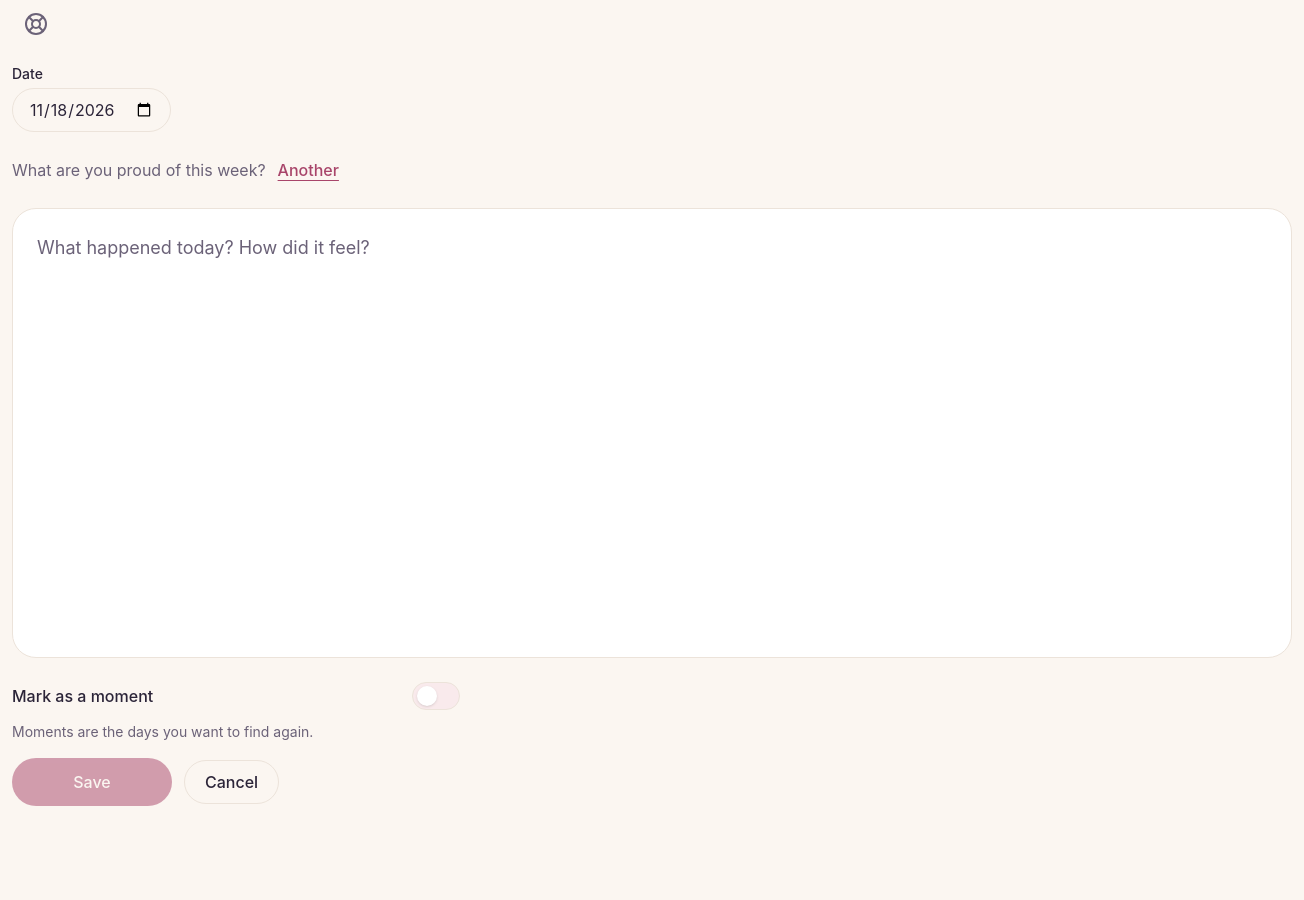
the editor's mood prompt › Plus, no check-in today: Another steps through the daily list, as Free
Expected: the text with test id "entry-prompt-text" reads "What are you proud of this week?", [12, 160, 266, 180]
Click the button with test id "entry-prompt-another" at (308, 170), box [278, 148, 339, 192]
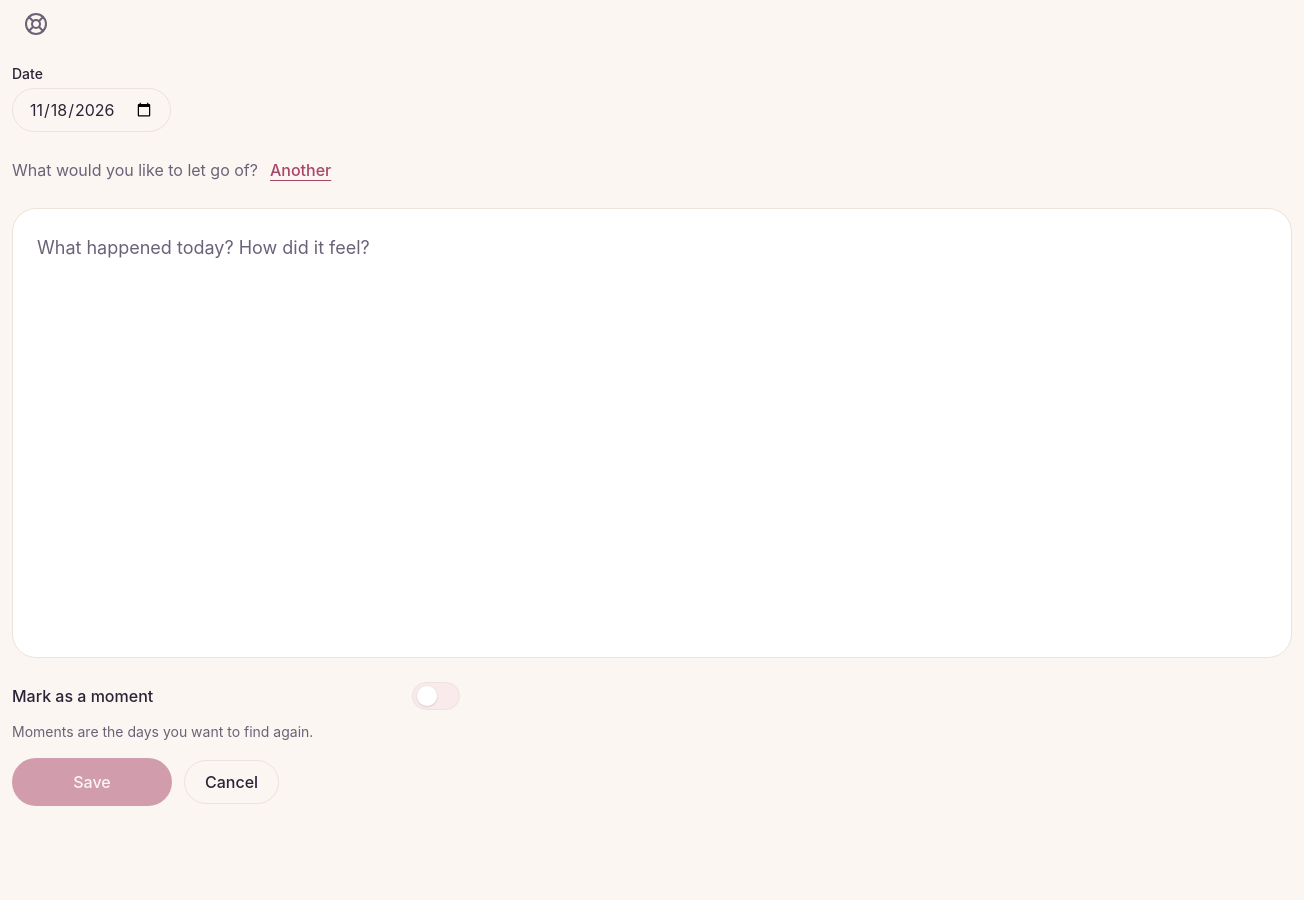
Expected: the text with test id "entry-prompt-text" reads "What would you like to let go of?", [12, 160, 258, 180]
Click the button with test id "entry-prompt-another" at (301, 170), box [270, 148, 331, 192]
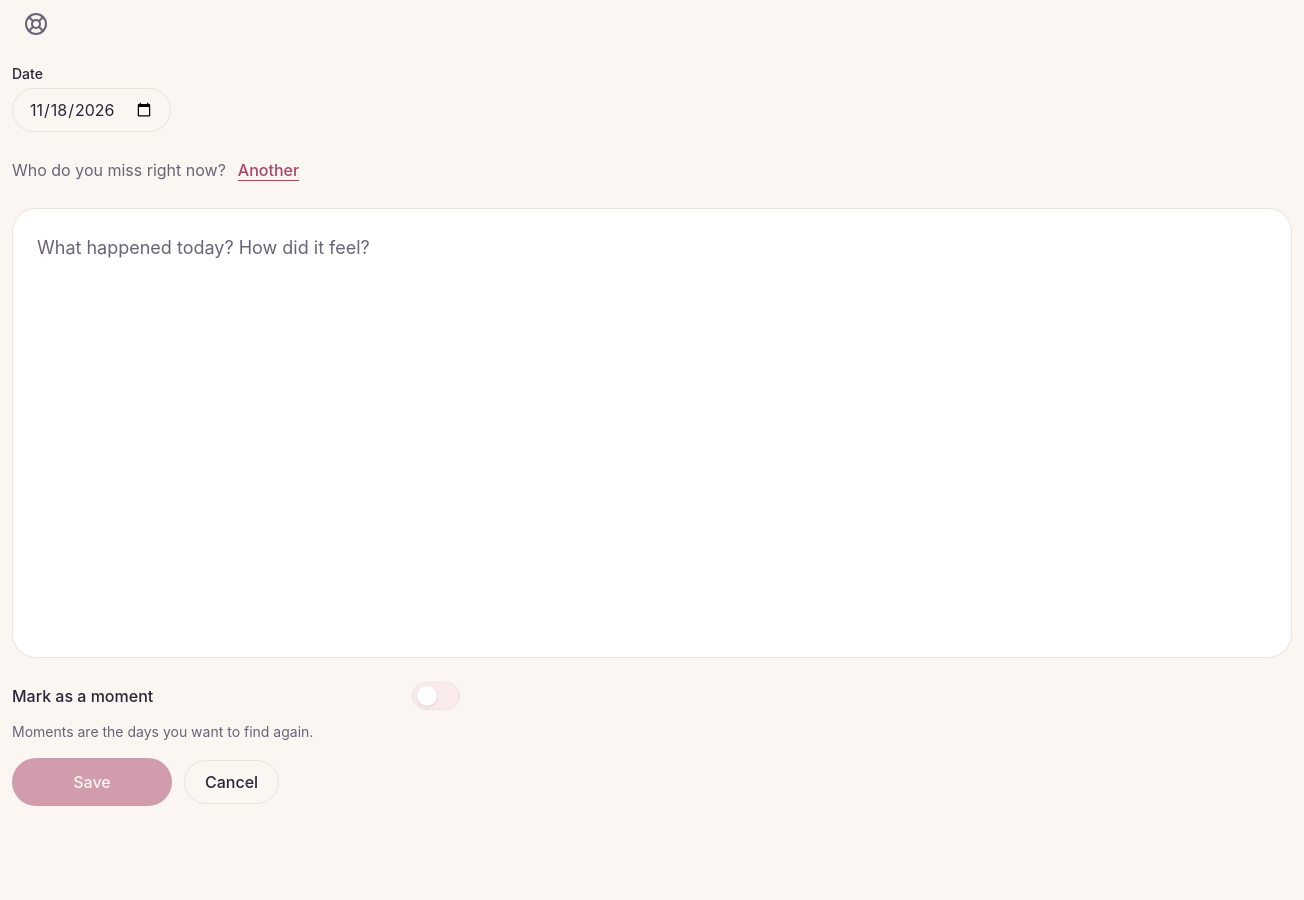
Expected: the text with test id "entry-prompt-text" reads "Who do you miss right now?", [12, 160, 226, 180]
